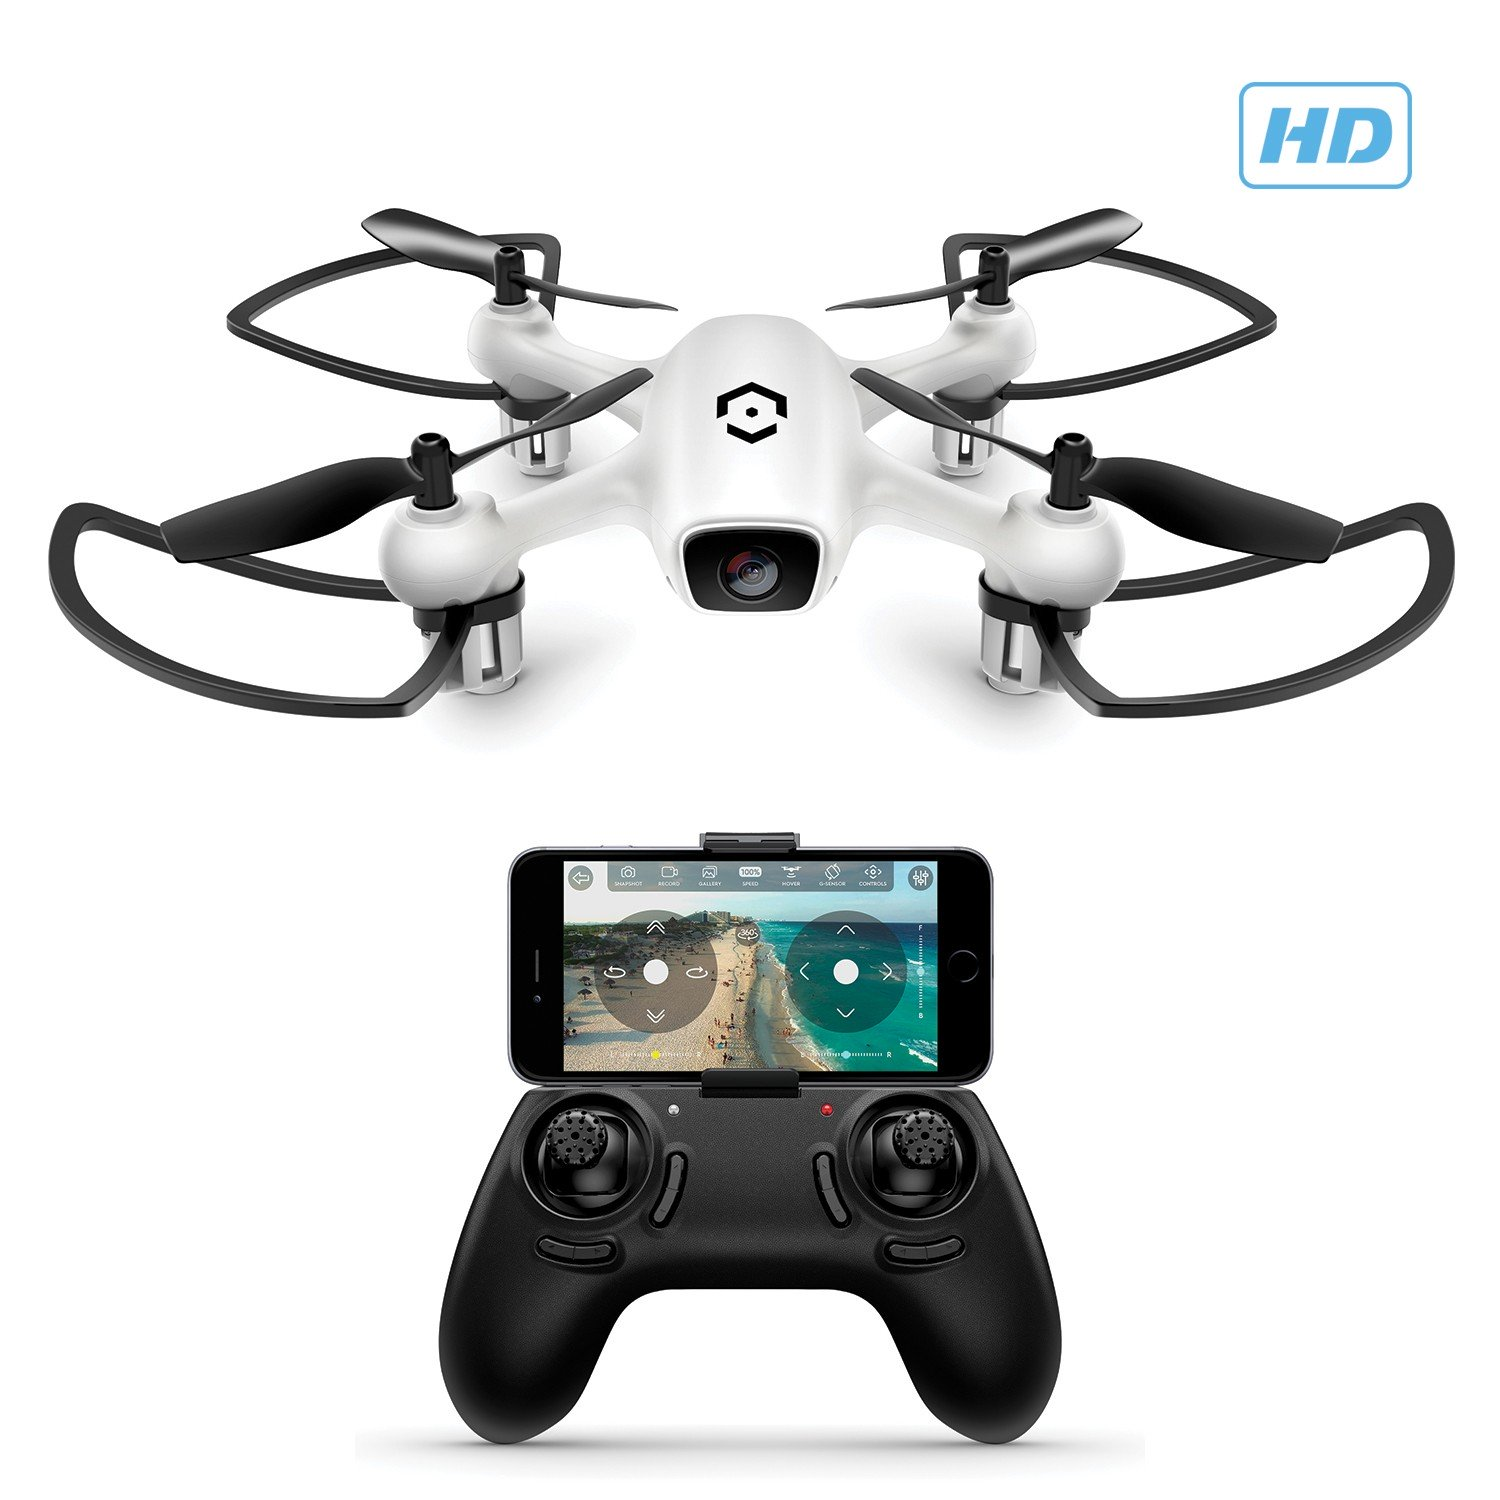drone: (38, 187, 1473, 735)
